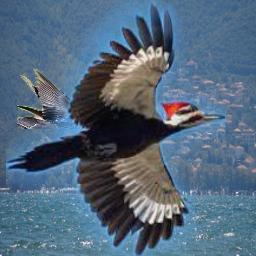Swallow: (17, 69, 96, 129)
Woodpecker: (6, 0, 226, 256)
